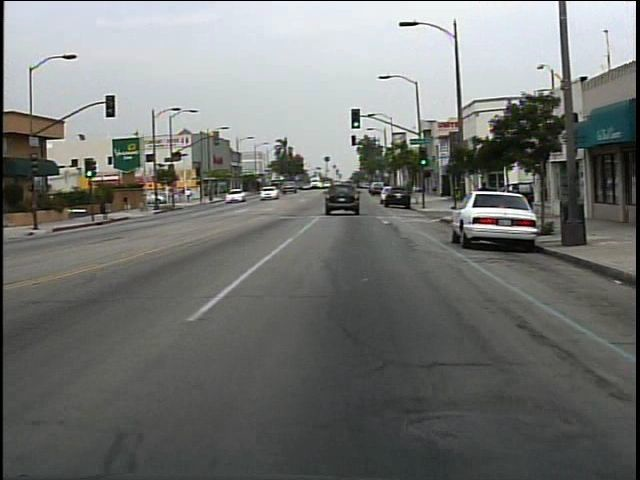person: (474, 177, 495, 218), (119, 192, 139, 221), (184, 186, 194, 205)
